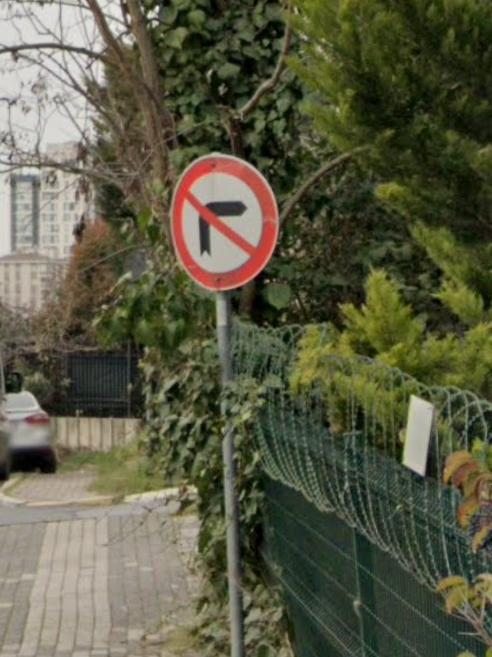rightturnsareforbidden: (173, 151, 279, 287)
